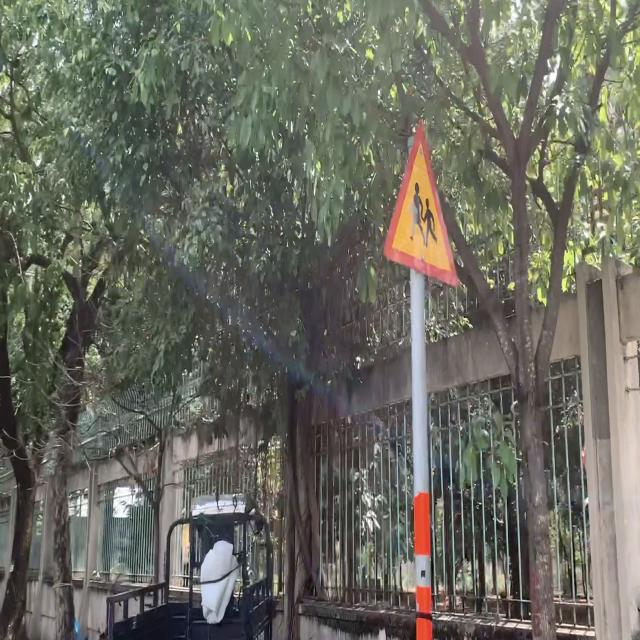Nguy hiem: (377, 108, 466, 296)
